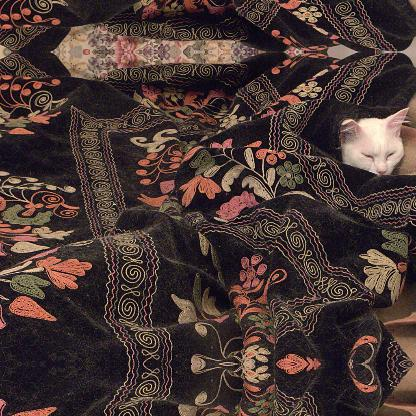Cat: (339, 107, 415, 174)
